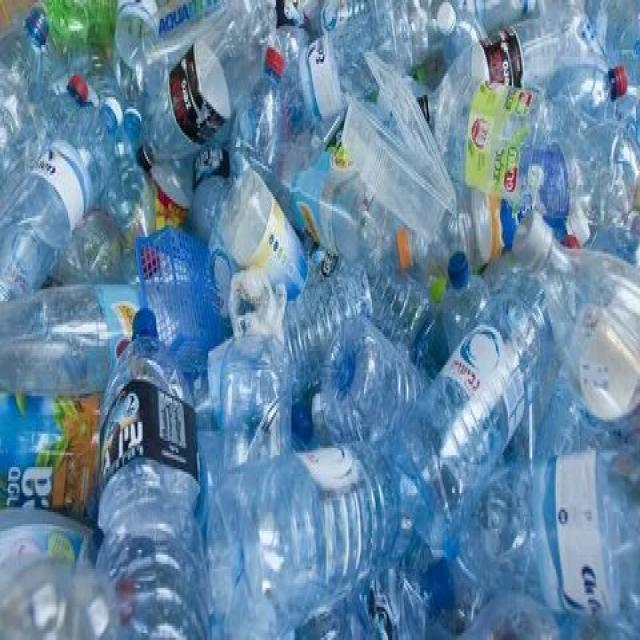blue: (389, 288, 551, 550), (205, 444, 402, 638), (1, 106, 116, 302), (279, 2, 399, 132), (319, 313, 421, 442), (230, 73, 281, 185), (0, 13, 48, 115)
